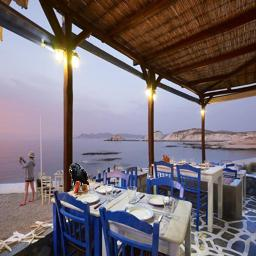Crow: (69, 163, 89, 192)
